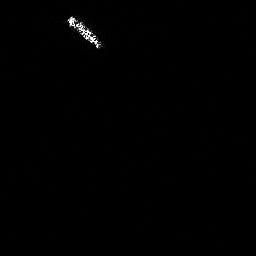ship: (66, 15, 102, 49)
